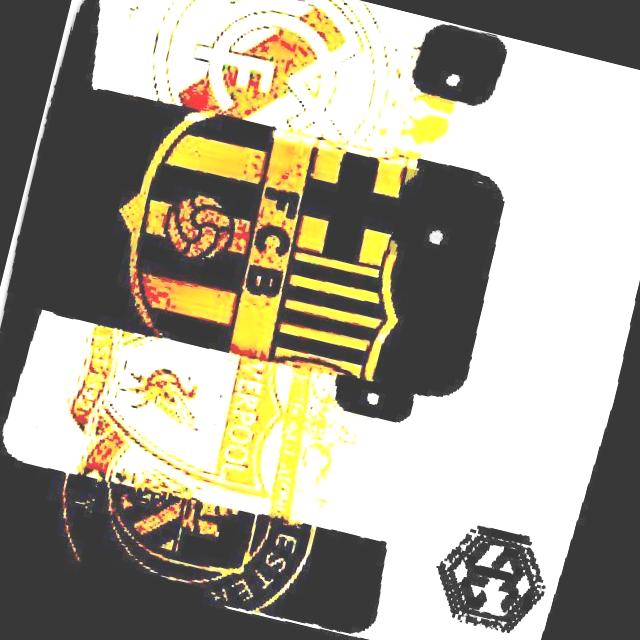phone: (31, 72, 525, 418), (0, 305, 442, 553), (73, 0, 523, 186), (0, 450, 399, 640)
